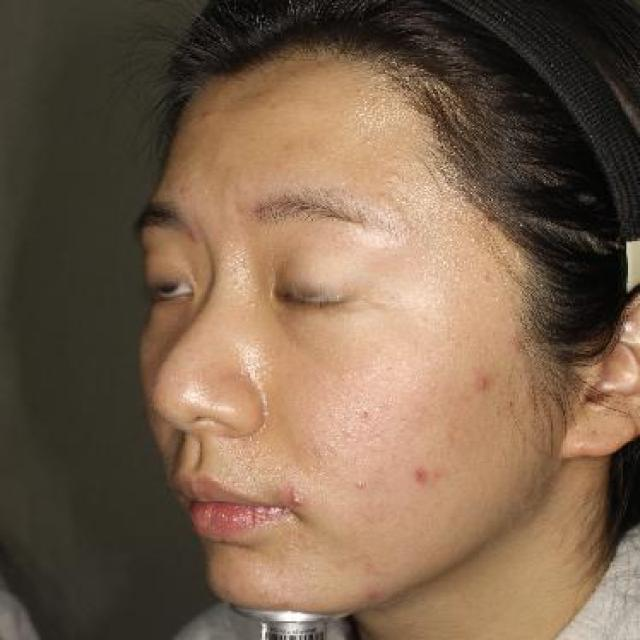papules: (288, 482, 306, 509), (476, 372, 491, 392)
pustules: (409, 464, 438, 488), (347, 477, 368, 491)
